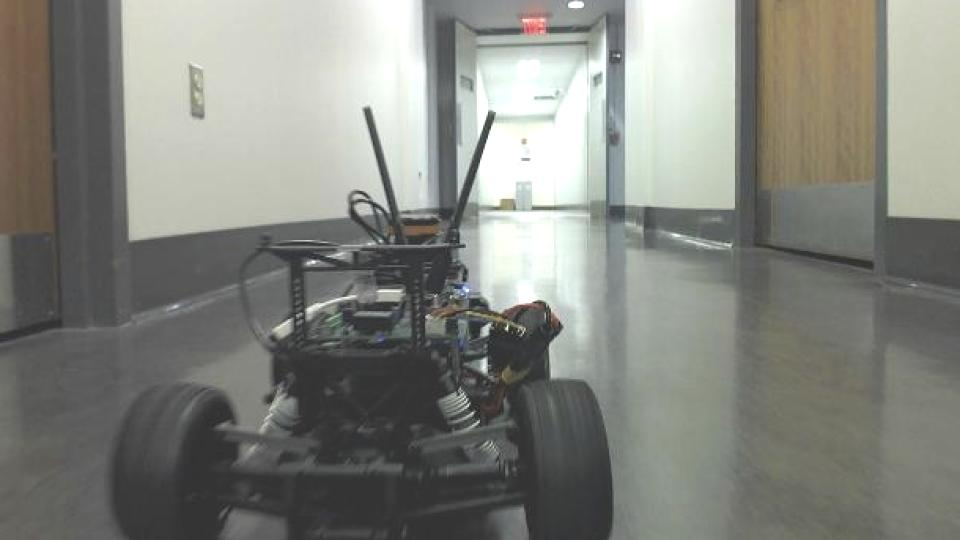car: (105, 102, 617, 538)
